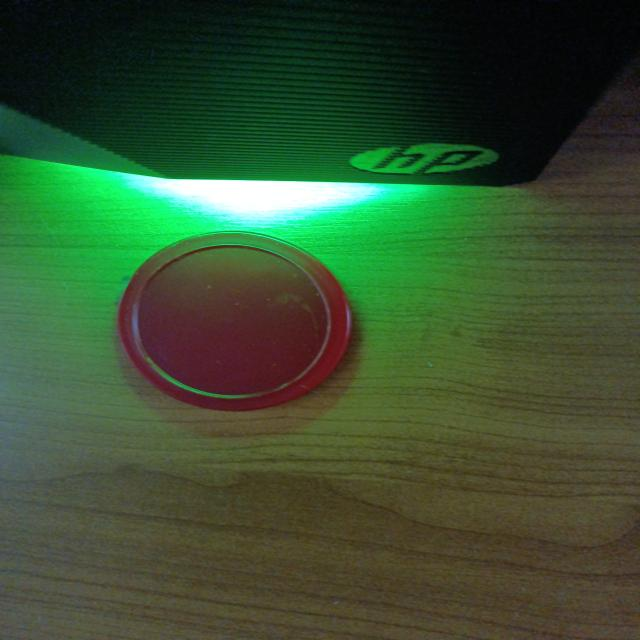chip: (115, 232, 353, 409)
